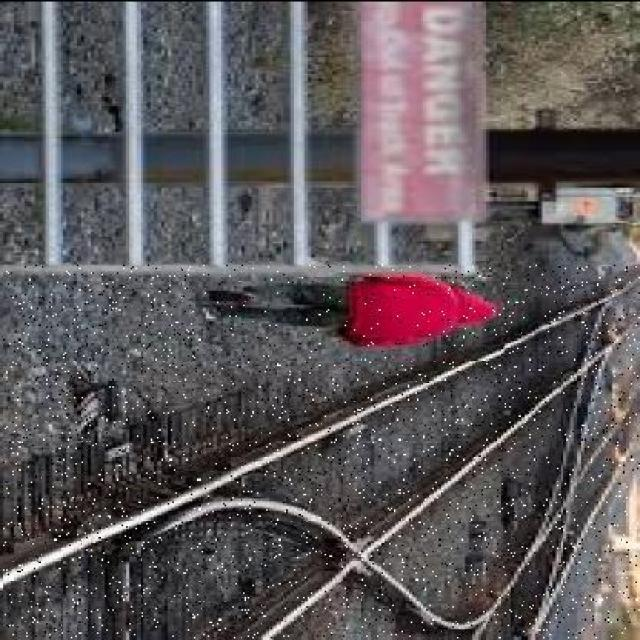rail: (4, 265, 640, 638)
